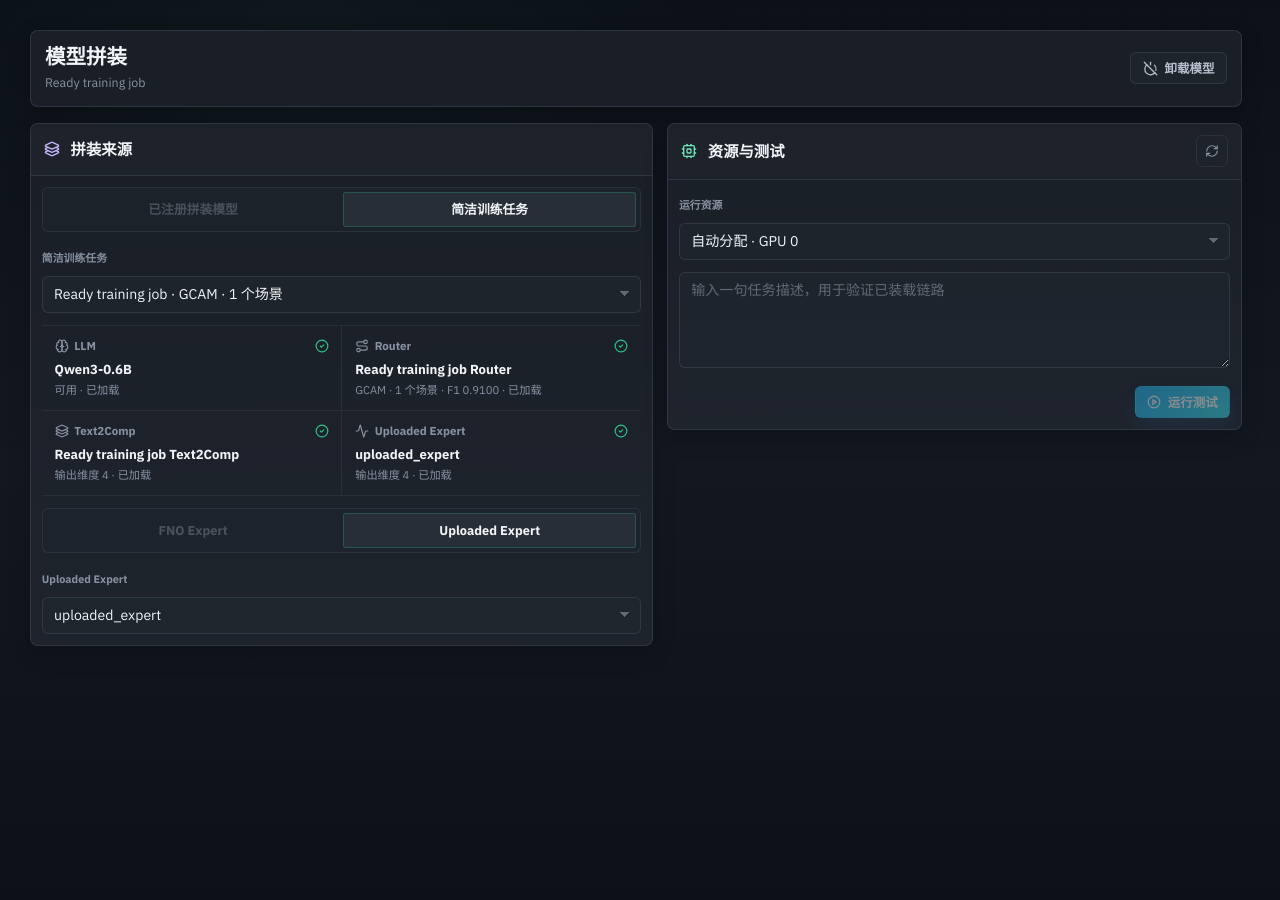
Scenario: TrainingSimpleAssemblyPage › keeps readable diff-sorp prediction value rows in the chat answer
Expected: the dropdown labelled "简洁训练任务" is shown, [42, 276, 641, 313]
Type "请预测 diff-sorp 下一时间步。" into the text box at (955, 320), box [679, 272, 1230, 368]
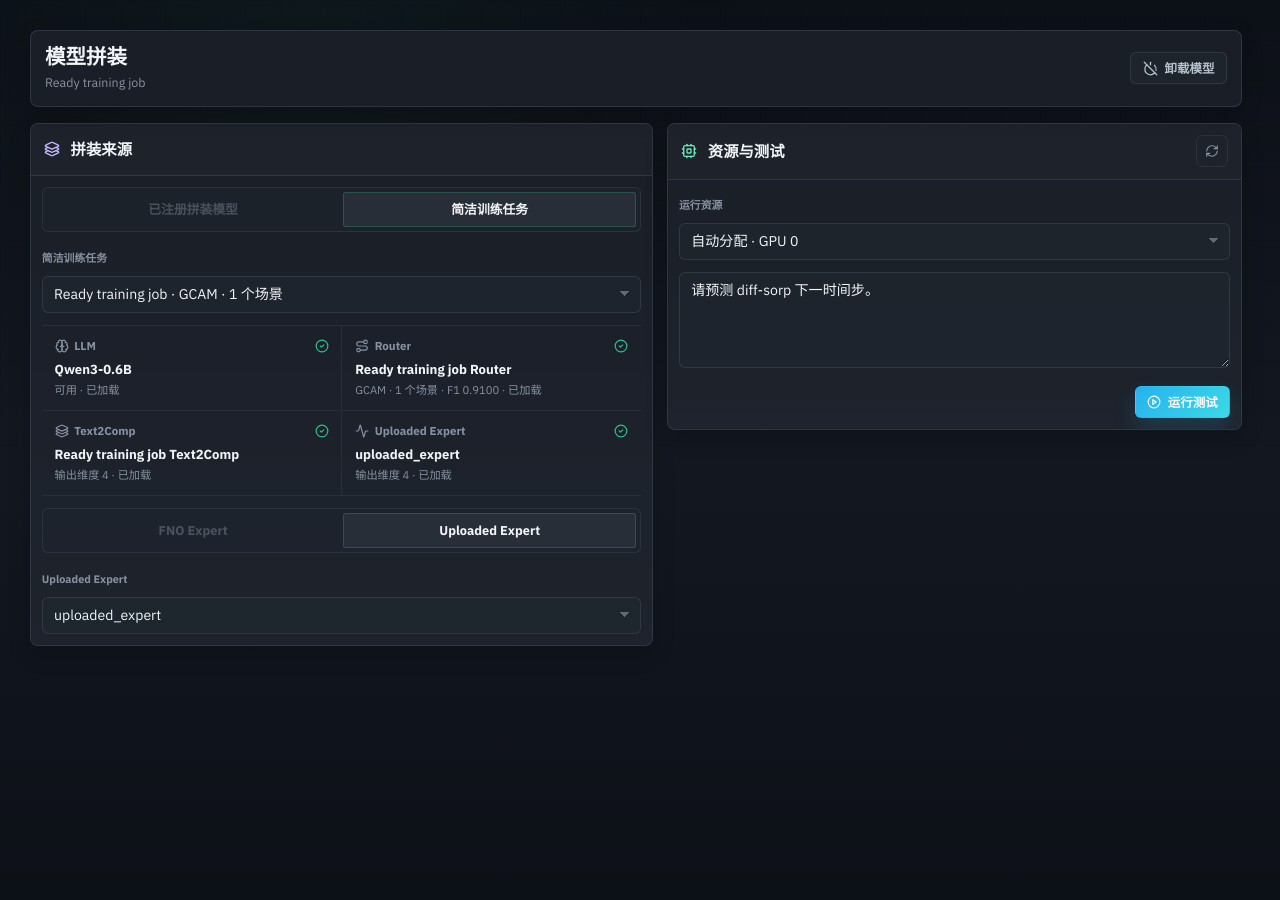
Click the button "运行测试" at (1182, 402), box [1135, 386, 1230, 418]
(page scrolled)
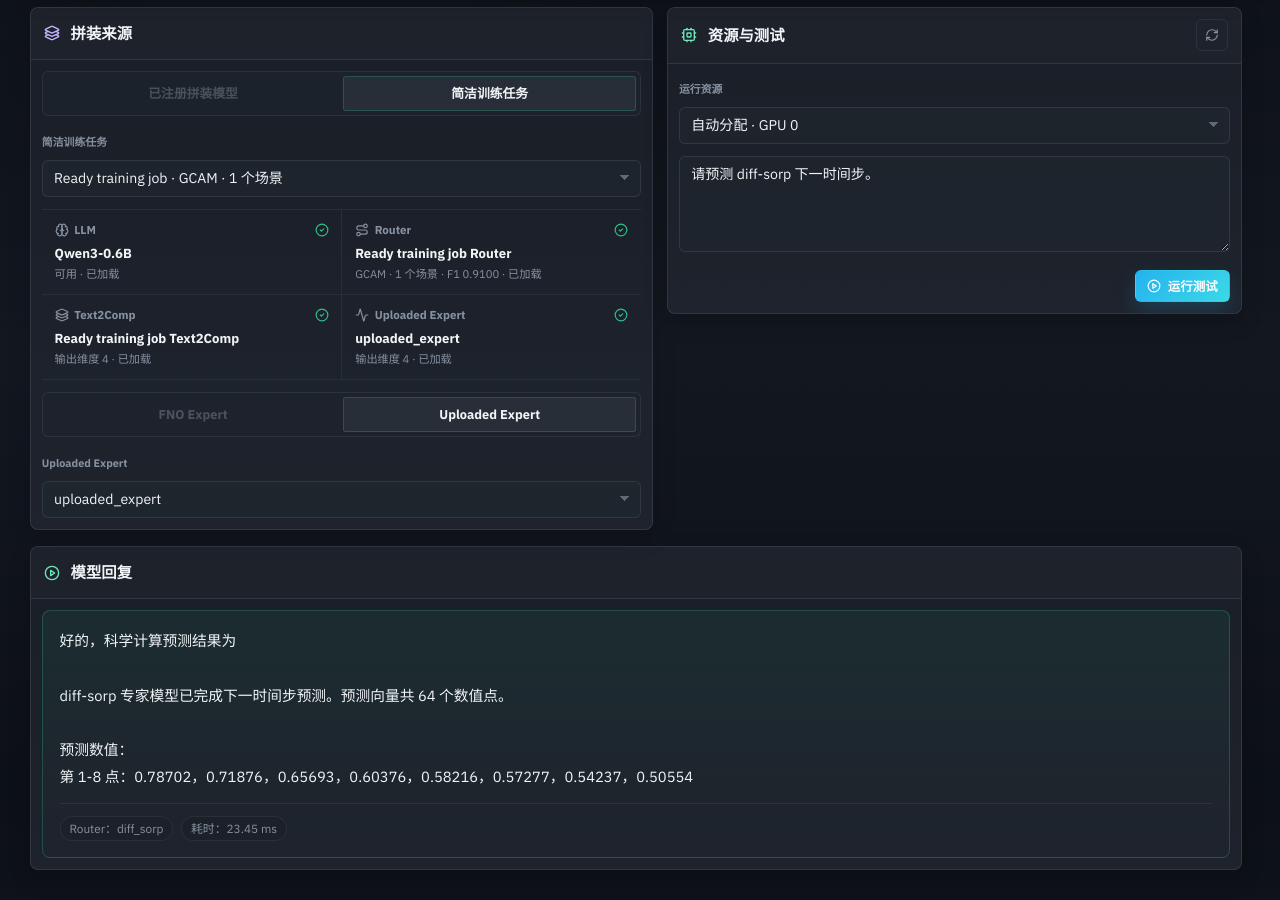
Result: the text "第 1-8 点：0.78702，0.71876" is shown at [60, 631, 693, 786]
